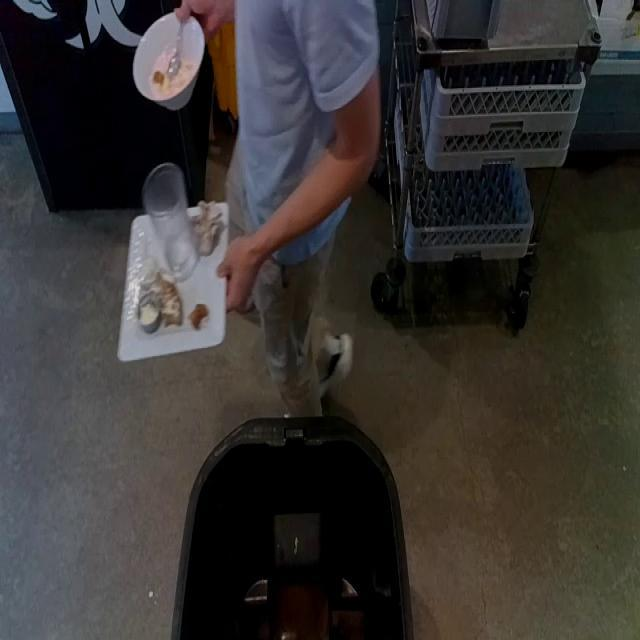Anorganik: (123, 197, 230, 359), (134, 14, 204, 99), (166, 20, 186, 81)
Organik: (138, 257, 208, 337), (148, 49, 198, 93)
